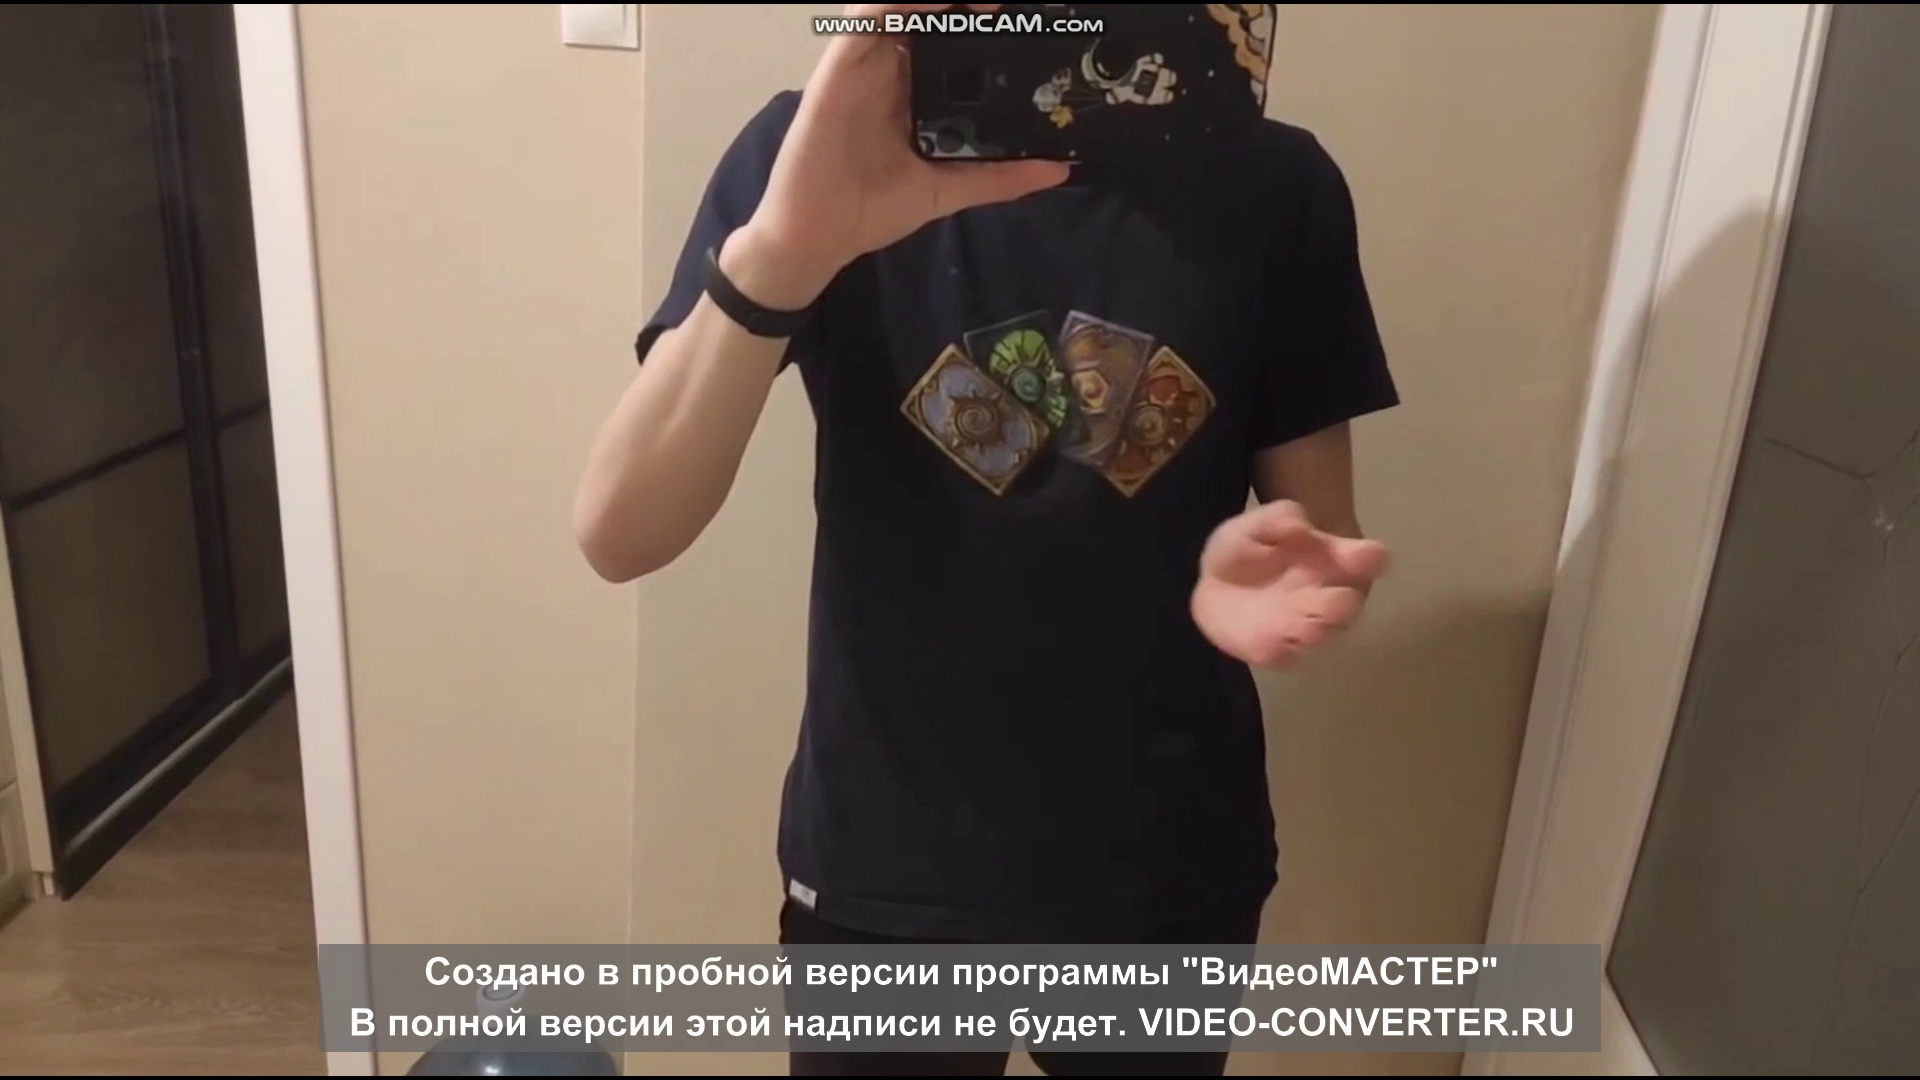Ладонь: (1189, 505, 1389, 671)
